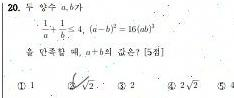choice: (66, 77, 78, 90)
not-choice: (116, 80, 127, 92), (16, 81, 27, 92), (166, 81, 177, 91), (216, 81, 227, 91)
